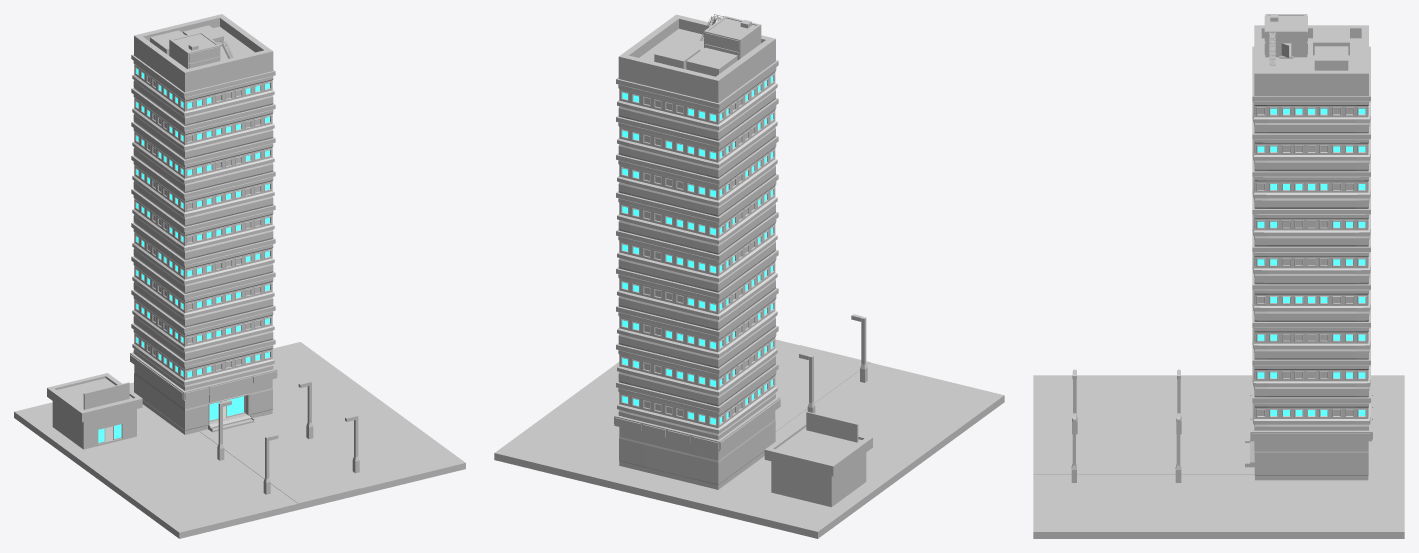
Rendered from uploads_files_4048489_City+center+at+night+.gltf.
3 renders of one model, left to right at view 1: azimuth 30°, elevation 25°; view 2: azimuth 150°, elevation 25°; view 3: azimuth 270°, elevation 25°, orthographic. The views are drawn at different scales.
Parts seen in each view (by area): view 1: Plane, Plane.003, Plane.005, Plane.007, Plane.014; view 2: Plane, Plane.003, Plane.005, Plane.014, Plane.007; view 3: Plane.003, Plane, Plane.005, Plane.007.
Part boxes in pixels (left/top/right/bottom): Plane: left=131, top=54, right=275, bottom=390; Plane.003: left=14, top=342, right=465, bottom=538; Plane.005: left=130, top=14, right=277, bottom=434; Plane.007: left=199, top=416, right=360, bottom=503; Plane.014: left=47, top=373, right=142, bottom=449; Plane: left=616, top=60, right=778, bottom=439; Plane.003: left=494, top=339, right=1004, bottom=538; Plane.005: left=614, top=14, right=780, bottom=489; Plane.014: left=764, top=411, right=872, bottom=507; Plane.007: left=775, top=345, right=870, bottom=431; Plane.003: left=1033, top=375, right=1404, bottom=538; Plane: left=1252, top=46, right=1370, bottom=430; Plane.005: left=1245, top=14, right=1372, bottom=480; Plane.007: left=1033, top=439, right=1254, bottom=474.
Bounding box in the file's own units: 6.53 × 8.41 × 6.53.
